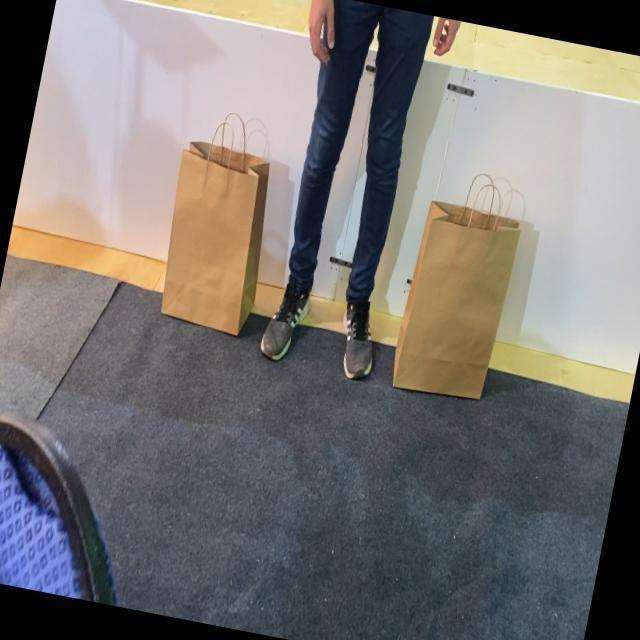Paper_Bag: (388, 164, 530, 406), (150, 105, 290, 338)
